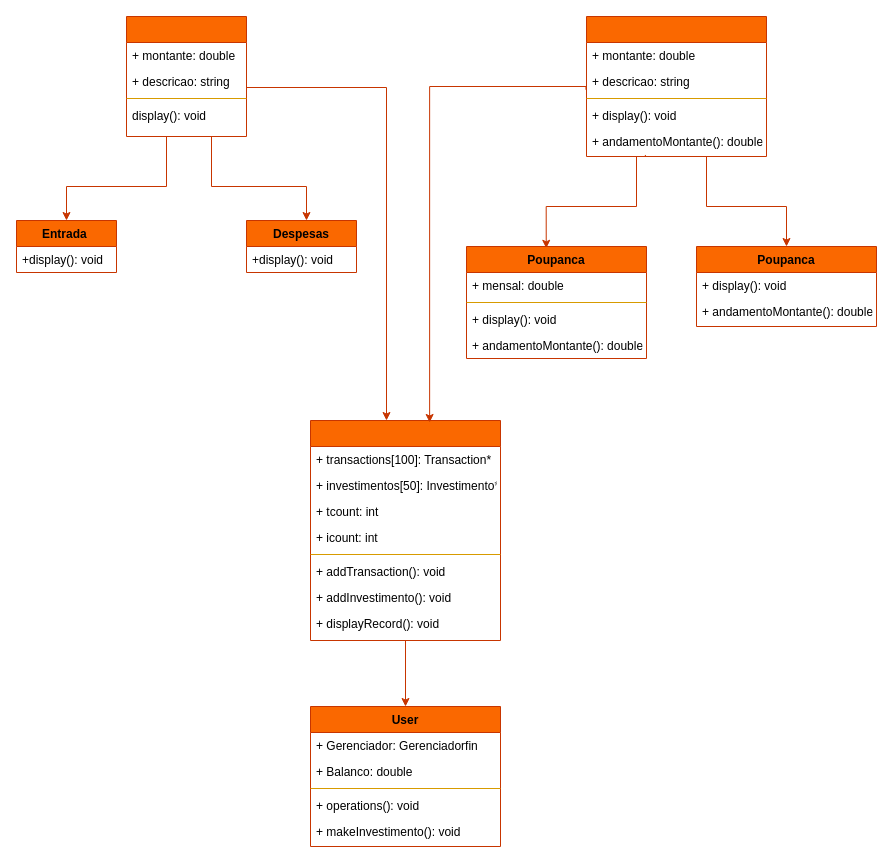
The diagram is 893 pixels wide and 863 high, and some of its shapes have lost their labels. Each missing label, with the box of its shape:
Gerenciador: (310, 420, 500, 640)
Investimento: (586, 16, 766, 156)
Transacao: (126, 16, 246, 136)
